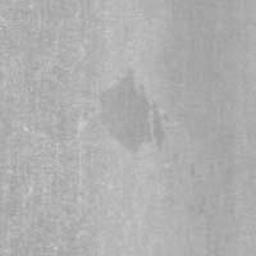Oil spot: (96, 67, 168, 163)
